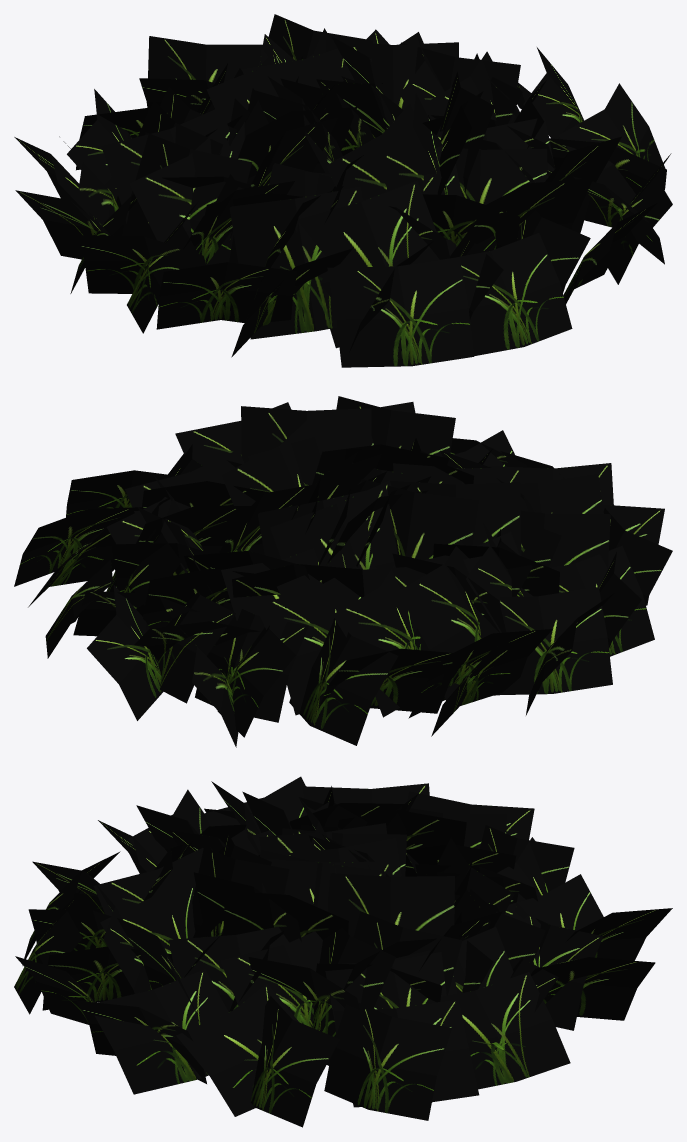
File: MedGrass1m.dae
3 views of the same model, one above another, from view 1: azimuth 30°, elevation 25°; view 2: azimuth 150°, elevation 25°; view 3: azimuth 270°, elevation 25° (orthographic). The views are drawn at different scales.
Parts seen in each view (by area): view 1: MedGrass1m_Hi; view 2: MedGrass1m_Hi; view 3: MedGrass1m_Hi.
Part boxes in pixels (left/top/right/bottom): MedGrass1m_Hi: left=14, top=14, right=672, bottom=367; MedGrass1m_Hi: left=14, top=396, right=672, bottom=747; MedGrass1m_Hi: left=14, top=776, right=672, bottom=1127.
Bounding box in the file's own units: 1.02 × 1.03 × 0.2617.
Materials: 1 (1 with a texture image).
